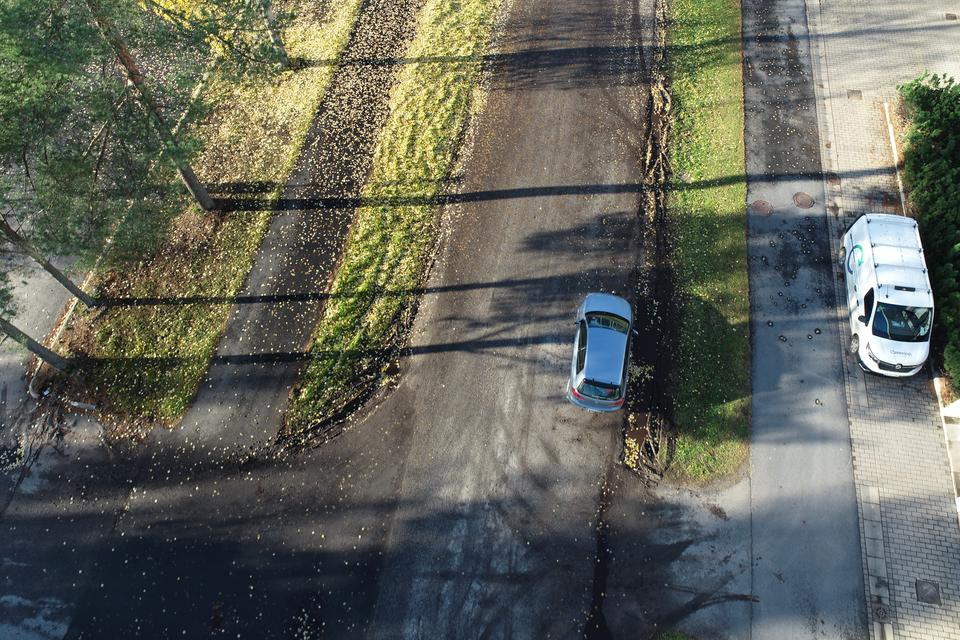intersection: (0, 325, 725, 638)
